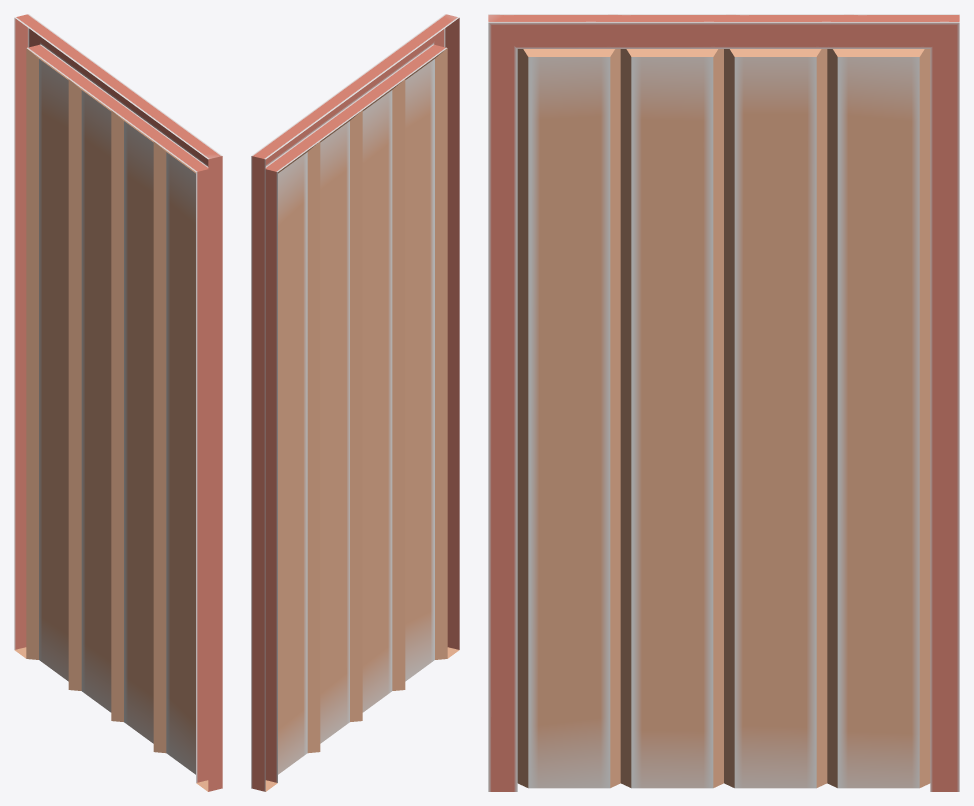
The model's file is Door.fbx.
3 renders of one model, left to right at view 1: azimuth 30°, elevation 25°; view 2: azimuth 150°, elevation 25°; view 3: azimuth 270°, elevation 25°, orthographic. The views are drawn at different scales.
Visible parts, largest first — view 1: Door; view 2: Door; view 3: Door.
Boxes of the visible parts, x1,y1,x2,y2 form: Door: (14,14,222,791); Door: (251,14,459,791); Door: (488,14,959,791).
Bounding box in the file's own units: 4.33 × 100 × 180.
